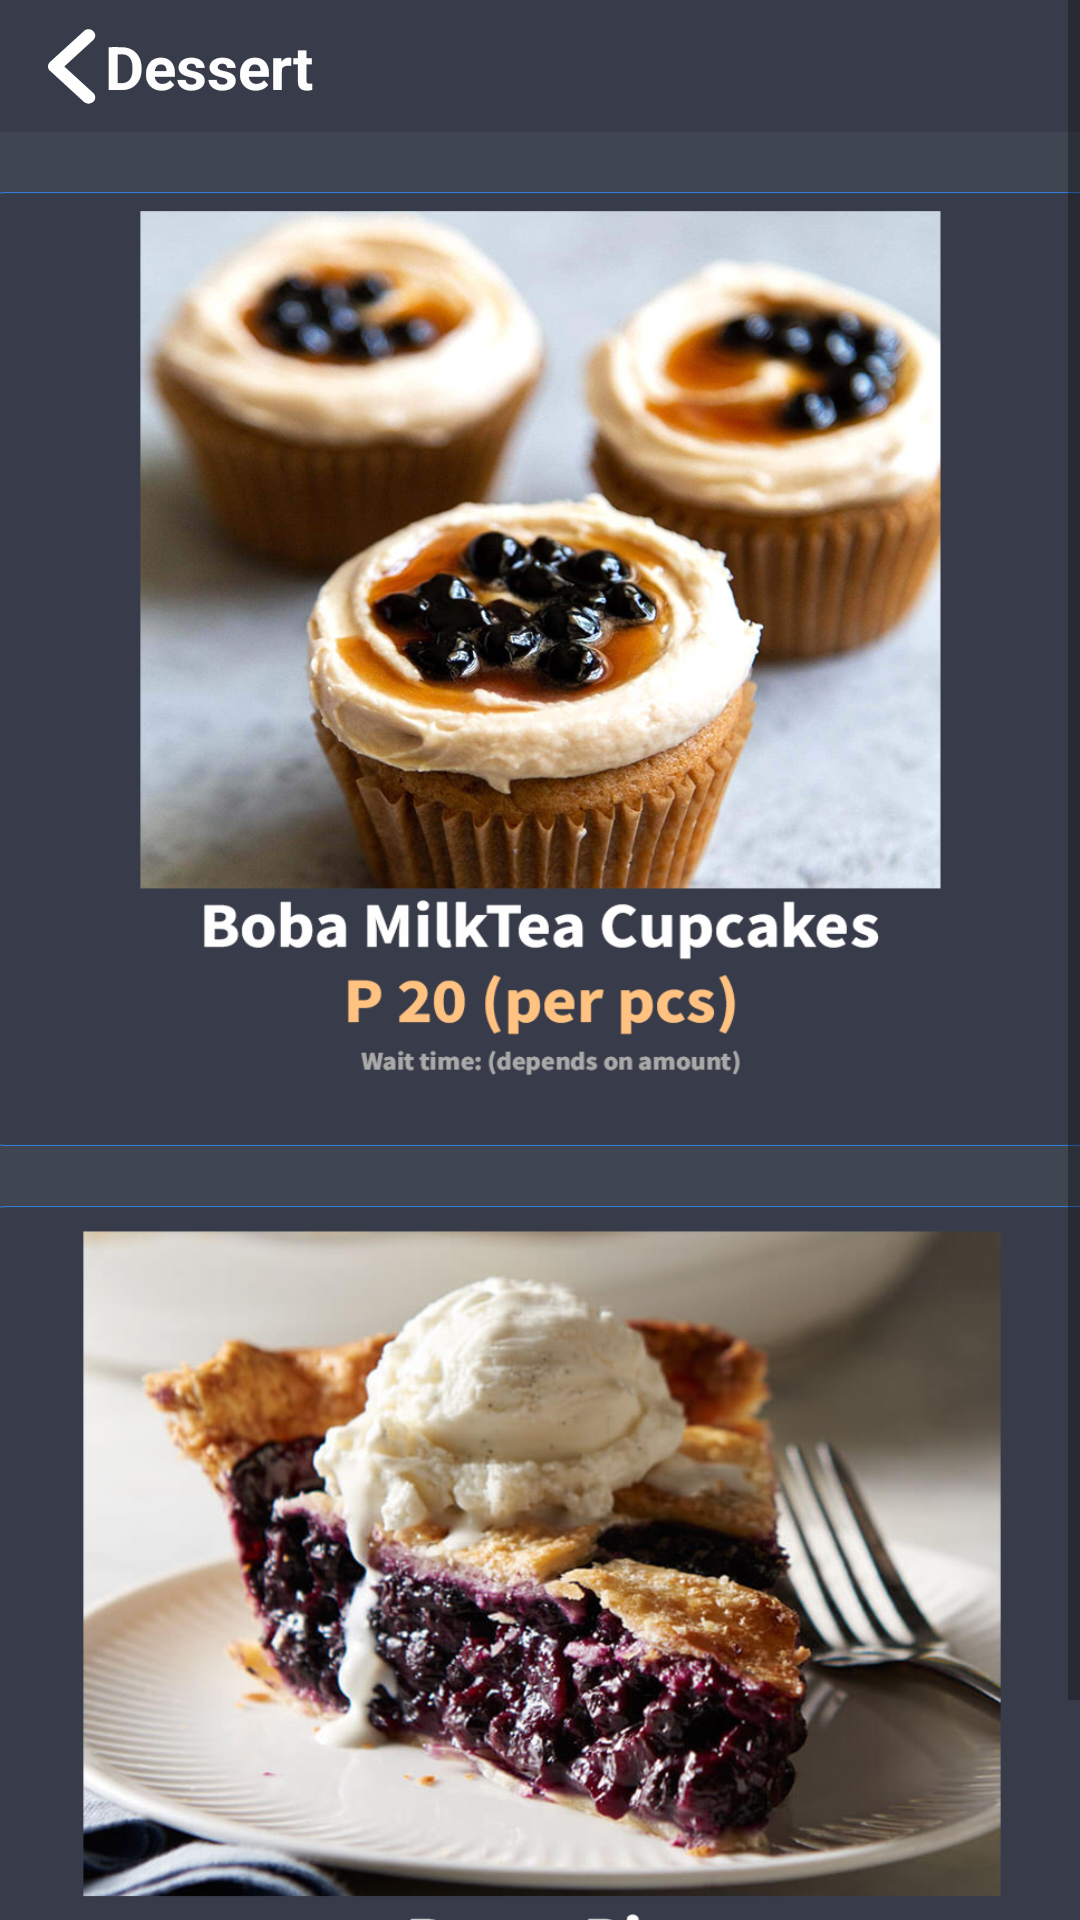

Point at icon controls on the screen. Image size 1080px x 1920px, points as point (x, y).
angle left: point (72, 66)
